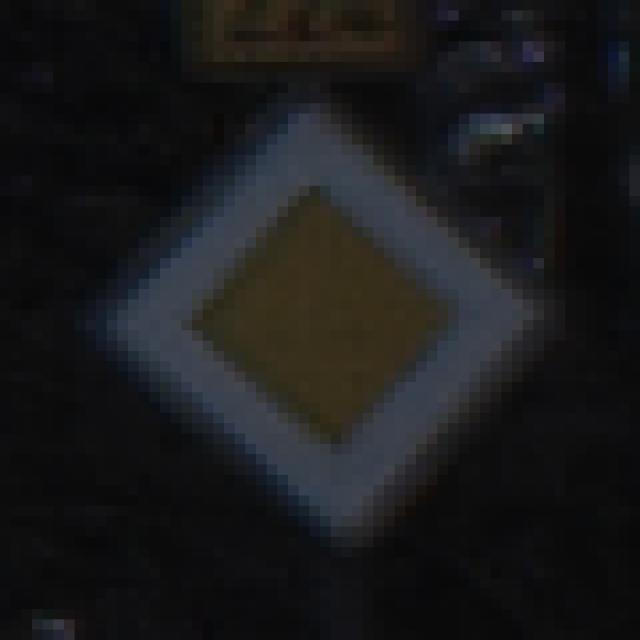Main Road: (65, 63, 588, 589)
